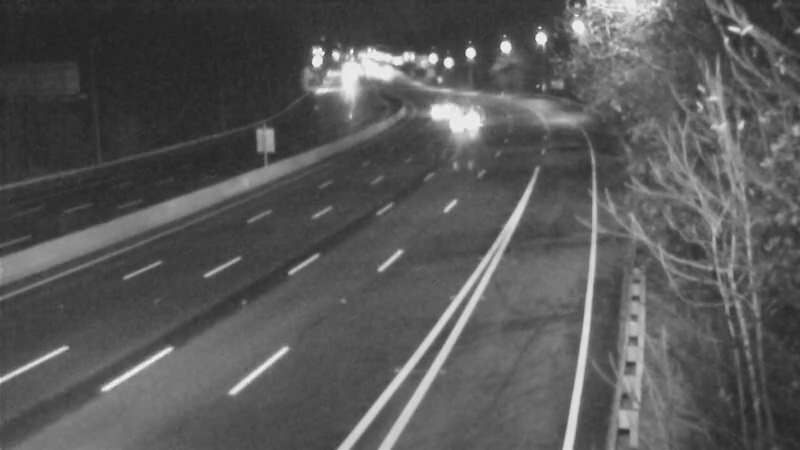vehicle: (410, 87, 460, 137), (441, 96, 491, 146)
